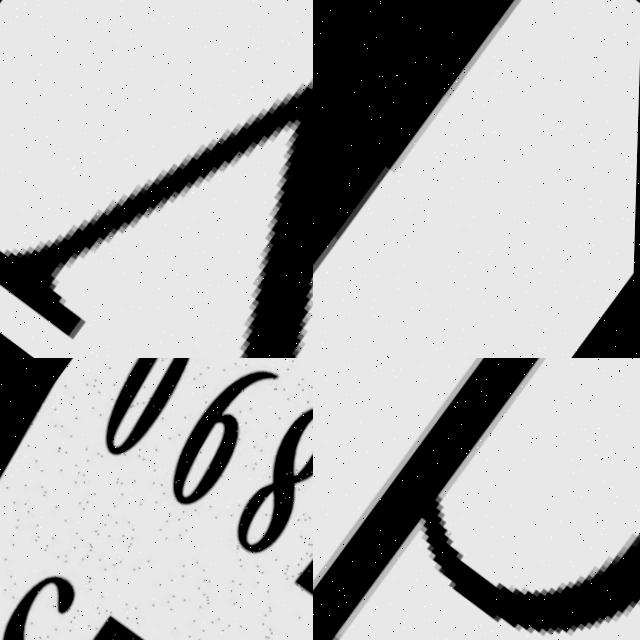0: (46, 358, 252, 512)
1: (313, 0, 604, 358)
2: (0, 587, 179, 640)
3: (0, 541, 114, 640)
7: (255, 407, 313, 640)
8: (188, 375, 313, 597)
9: (122, 358, 312, 555)
D: (313, 358, 640, 640)
Y: (0, 0, 313, 358)
